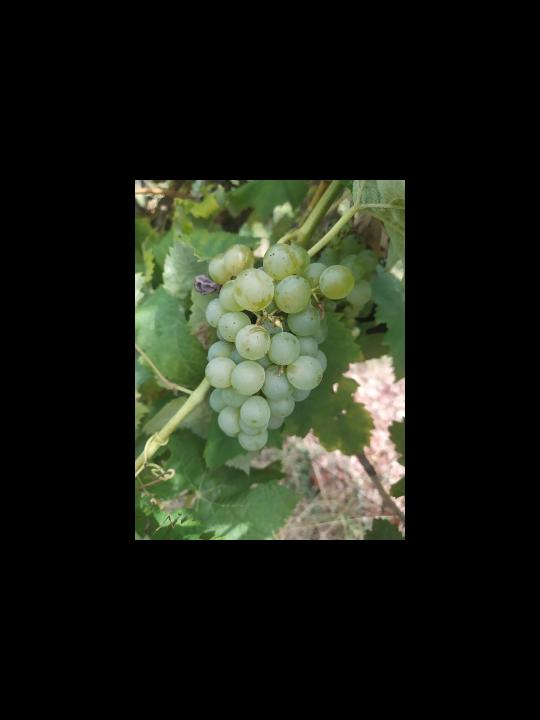grape: (204, 240, 357, 454)
